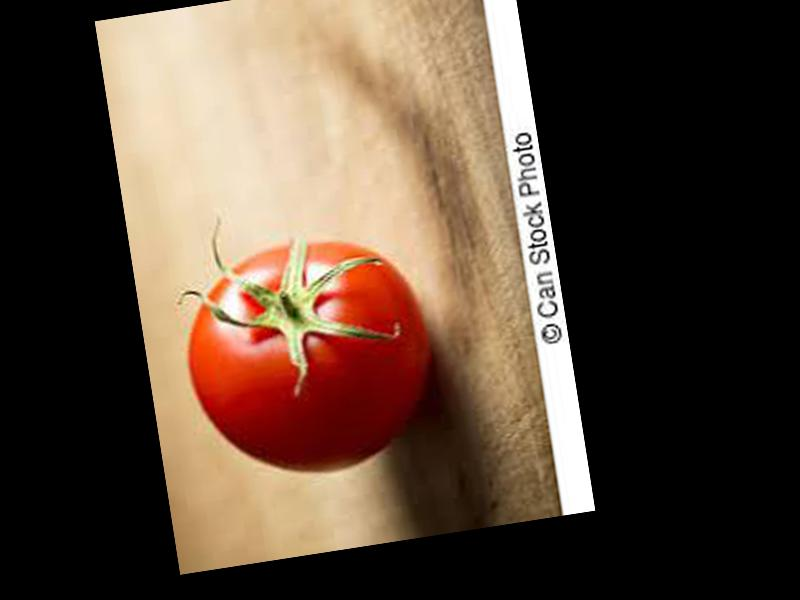Tomato: (176, 223, 444, 488)
